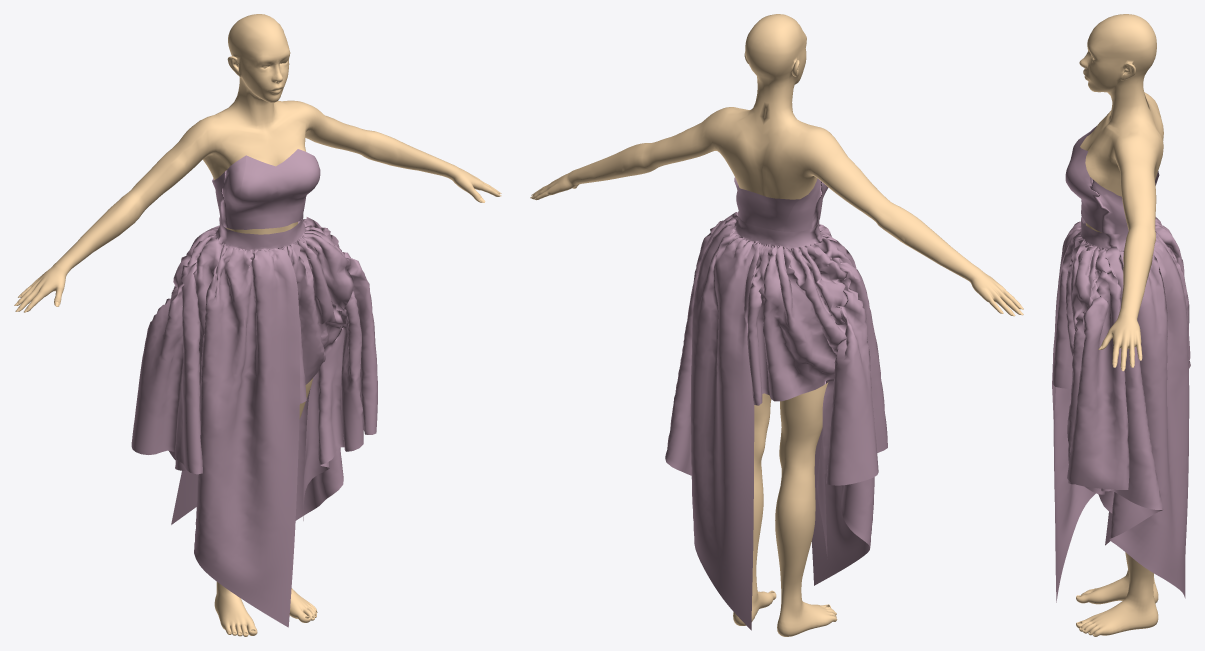
Rendered from dress8.glb.
3 views of the same model, side by side, from view 1: azimuth 30°, elevation 25°; view 2: azimuth 150°, elevation 25°; view 3: azimuth 270°, elevation 25° (orthographic).
Visible parts, largest first — view 1: Project 1, Body; view 2: Project 1, Body; view 3: Project 1, Body.
Boxes of the visible parts, left/top/right/bottom form: Project 1: left=131, top=149, right=377, bottom=627; Body: left=16, top=14, right=500, bottom=636; Project 1: left=665, top=177, right=887, bottom=630; Body: left=531, top=14, right=1021, bottom=636; Project 1: left=1052, top=126, right=1190, bottom=602; Body: left=1076, top=14, right=1163, bottom=636.
Size of the model in its own units: 1.58 by 1.85 by 0.3878.
